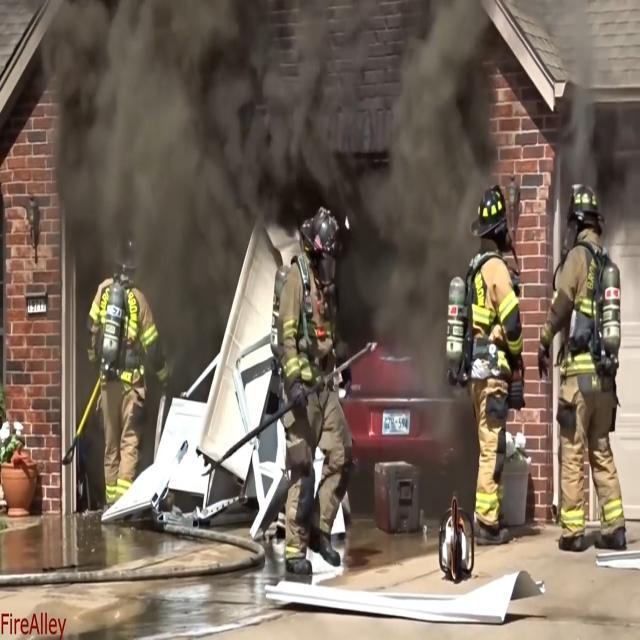Smoke: (78, 27, 257, 292), (370, 58, 486, 369)
